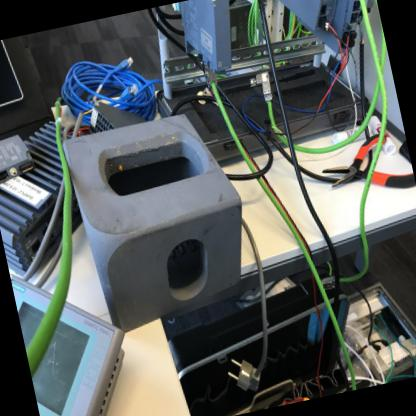CornerCasting: (58, 101, 266, 343)
